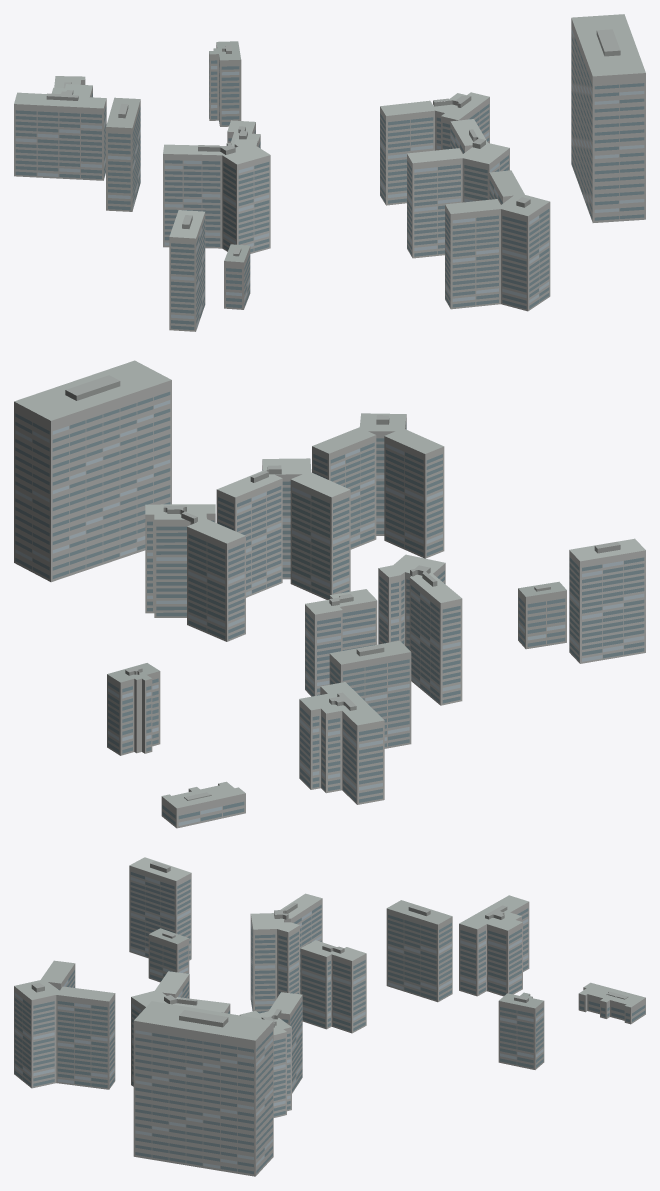
The model's file is apt-a12170603.glb.
3 views of the same model, one above another, from view 1: azimuth 30°, elevation 25°; view 2: azimuth 150°, elevation 25°; view 3: azimuth 270°, elevation 25° (orthographic). The views are drawn at different scales.
Parts seen in each view (by area): view 1: apt-a12170603; view 2: apt-a12170603; view 3: apt-a12170603.
Part boxes in pixels (box(x1,y1,x2,y2)): apt-a12170603: box(14, 14, 645, 331); apt-a12170603: box(14, 360, 645, 828); apt-a12170603: box(14, 857, 645, 1176).
Bounding box in the file's own units: 270 × 76 × 310.
